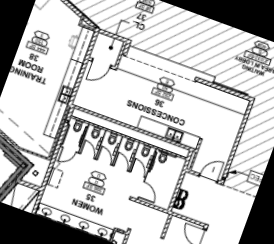door: (83, 58, 113, 89), (197, 154, 227, 184), (176, 221, 208, 244), (135, 180, 162, 205), (78, 138, 100, 162), (95, 145, 117, 169), (56, 144, 78, 167), (129, 156, 150, 180), (112, 151, 133, 173)
wall: (71, 103, 201, 156), (69, 113, 188, 161), (32, 102, 77, 214), (216, 93, 257, 188), (126, 193, 213, 233), (65, 25, 102, 108), (167, 145, 196, 213), (42, 101, 73, 163), (192, 75, 258, 104), (76, 20, 135, 47), (17, 145, 52, 163), (13, 176, 42, 195), (158, 212, 176, 242), (119, 35, 135, 60), (121, 224, 136, 244), (185, 244, 203, 244)
